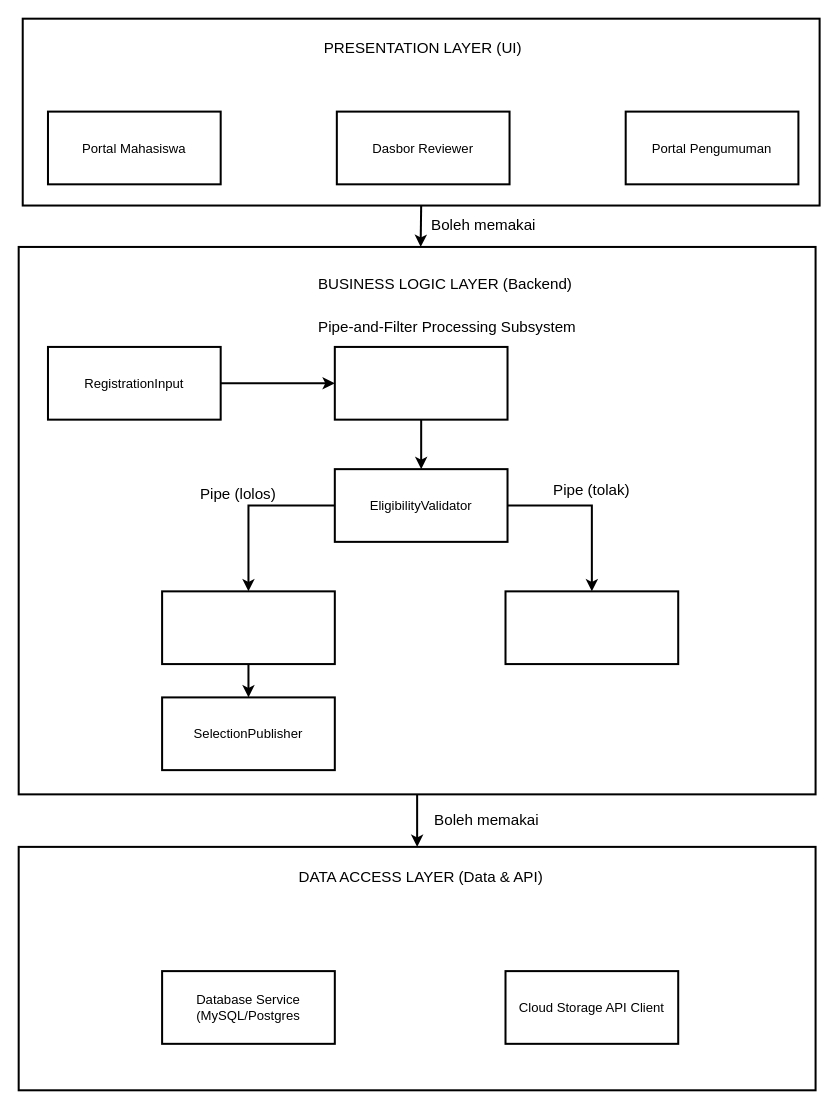
This 837x1108 diagram has some shape labels left out. Here are the shapes that lost their labels. From the top down, the box of each, then its label:
(333, 345, 508, 420): DuplicateChecker
(161, 590, 335, 665): AutoScoringEngine
(504, 590, 679, 665): RejectionHandler
